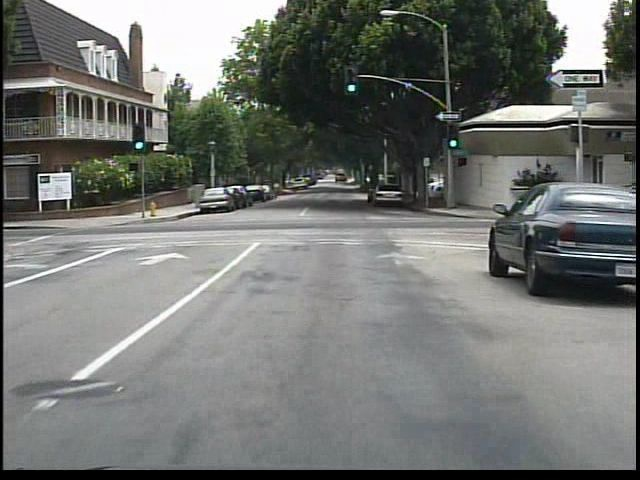person: (526, 170, 553, 219)
